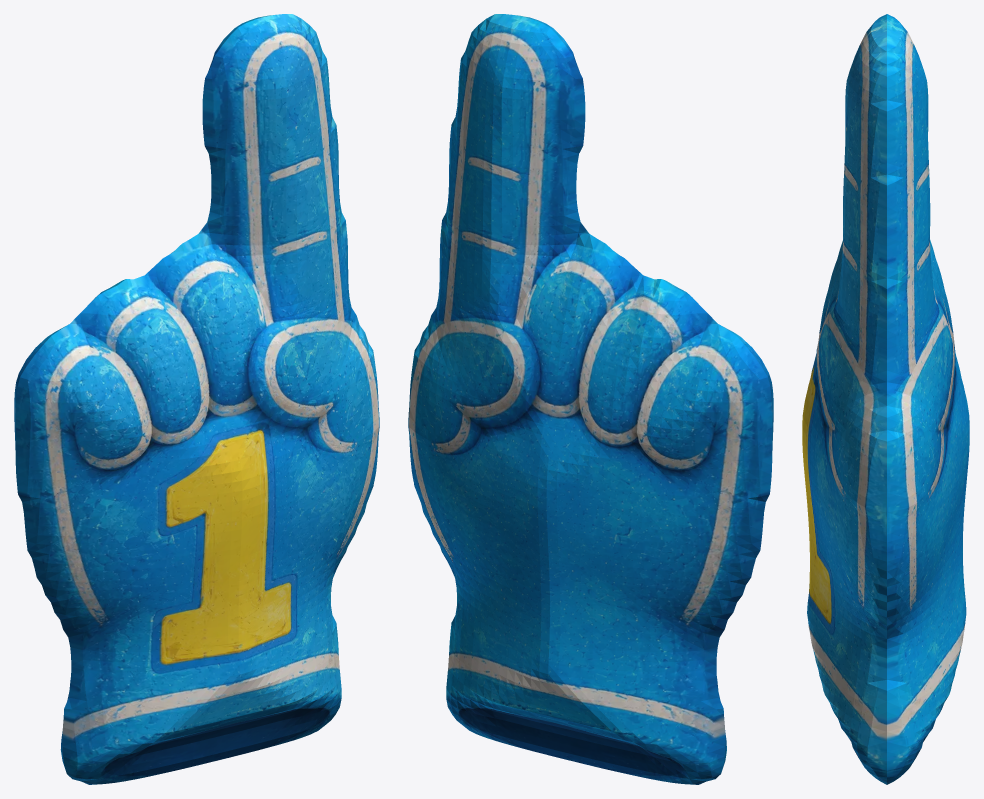
The model's file is foam_finger.glb.
3 views of the same model, side by side, from view 1: azimuth 30°, elevation 25°; view 2: azimuth 150°, elevation 25°; view 3: azimuth 270°, elevation 25° (orthographic).
Visible parts, largest first — view 1: geometry_0; view 2: geometry_0; view 3: geometry_0.
Part boxes in pixels (box(x1,y1,x2,y2)): geometry_0: box(14, 14, 379, 784); geometry_0: box(408, 14, 773, 784); geometry_0: box(802, 14, 969, 784).
Size of the model in its own units: 0.5081 by 0.9813 by 0.2017.
1 material, 1 textured.
